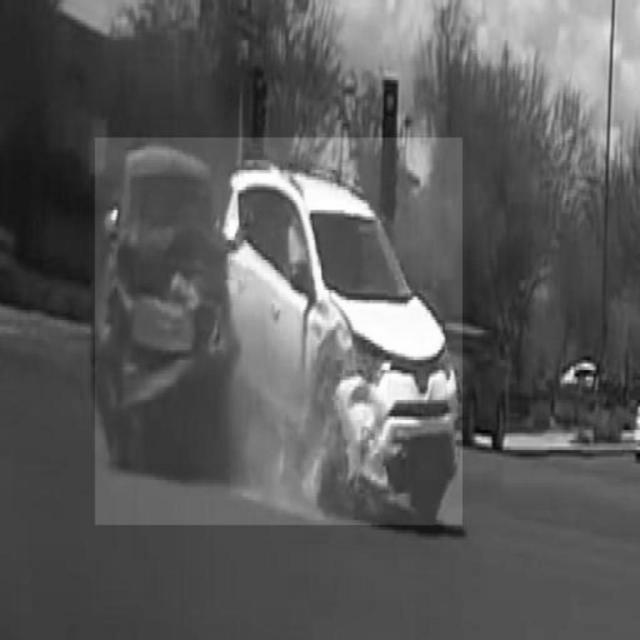accident: (96, 138, 463, 525)
